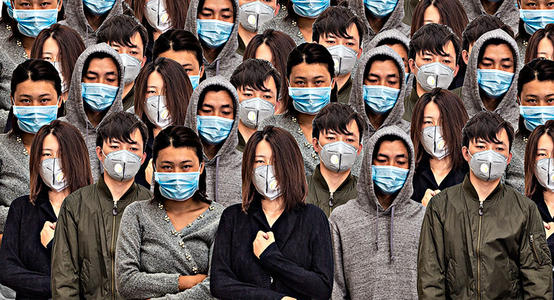yes_mask: (244, 125, 305, 203), (148, 123, 207, 203), (29, 121, 87, 193), (9, 59, 63, 135), (92, 113, 147, 185), (460, 111, 515, 183), (313, 101, 365, 175), (413, 85, 463, 161), (285, 41, 336, 115), (313, 5, 365, 77), (137, 57, 188, 129), (362, 125, 416, 193), (230, 59, 279, 133), (470, 27, 519, 99), (406, 25, 460, 89), (190, 73, 237, 145), (75, 43, 123, 113), (101, 15, 149, 85), (355, 47, 405, 113), (514, 57, 554, 133), (190, 1, 239, 49), (523, 121, 554, 193), (7, 1, 63, 39), (515, 1, 554, 41), (241, 1, 277, 35)
